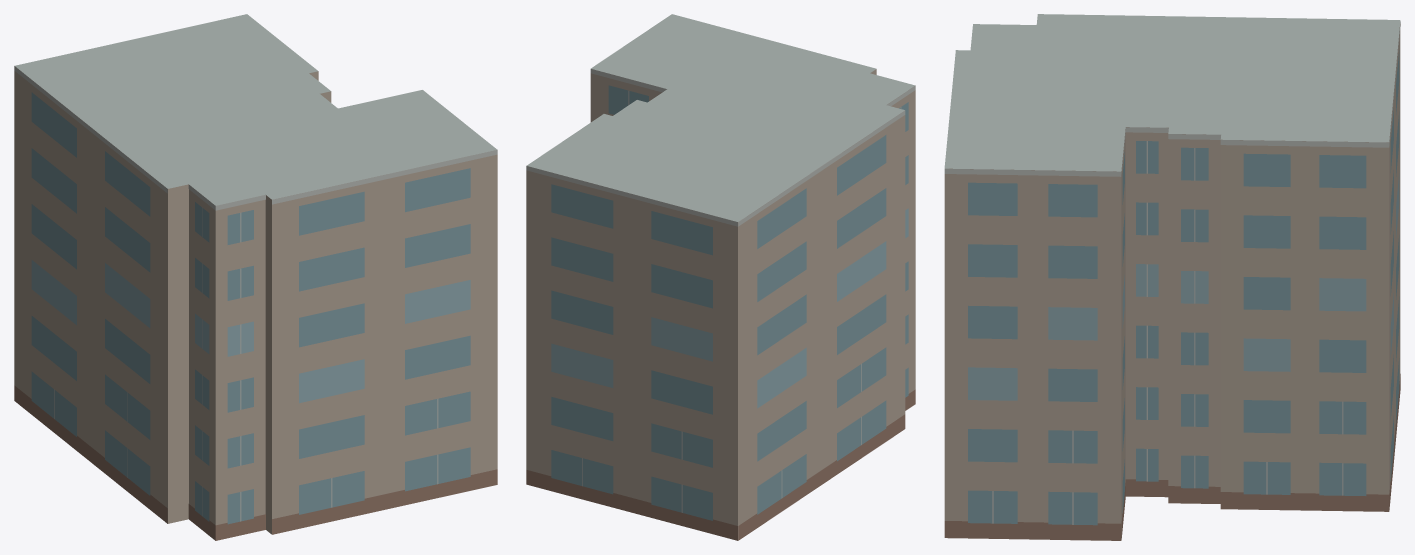
Rendered from survey-upis-32678407.glb.
The picture shows the model from 3 angles, left to right: view 1: azimuth 30°, elevation 25°; view 2: azimuth 150°, elevation 25°; view 3: azimuth 270°, elevation 25°; orthographic projection. The views are drawn at different scales.
Visible parts, largest first — view 1: survey-upis-32678407.tmp; view 2: survey-upis-32678407.tmp; view 3: survey-upis-32678407.tmp.
Part boxes in pixels (x1=…): survey-upis-32678407.tmp: x1=14, y1=14, x2=497, y2=540; survey-upis-32678407.tmp: x1=526, y1=14, x2=915, y2=540; survey-upis-32678407.tmp: x1=944, y1=14, x2=1400, y2=540.
Size of the model in its own units: 15.56 by 17 by 19.03.
